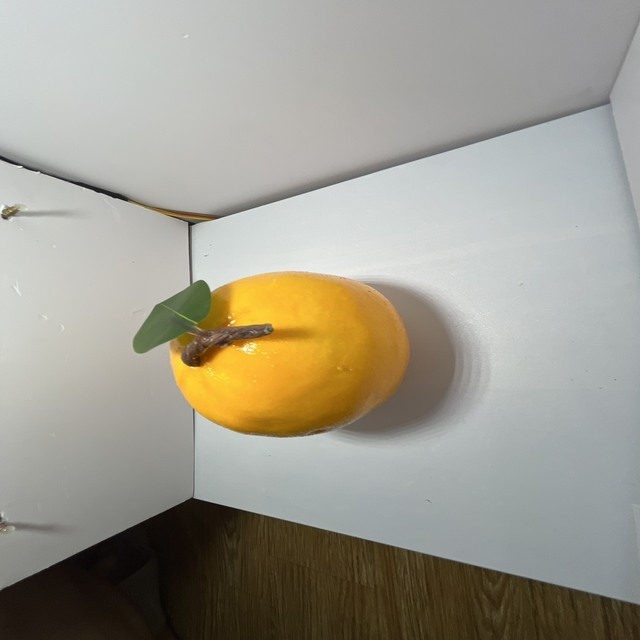Cam vang: (154, 268, 414, 443)
